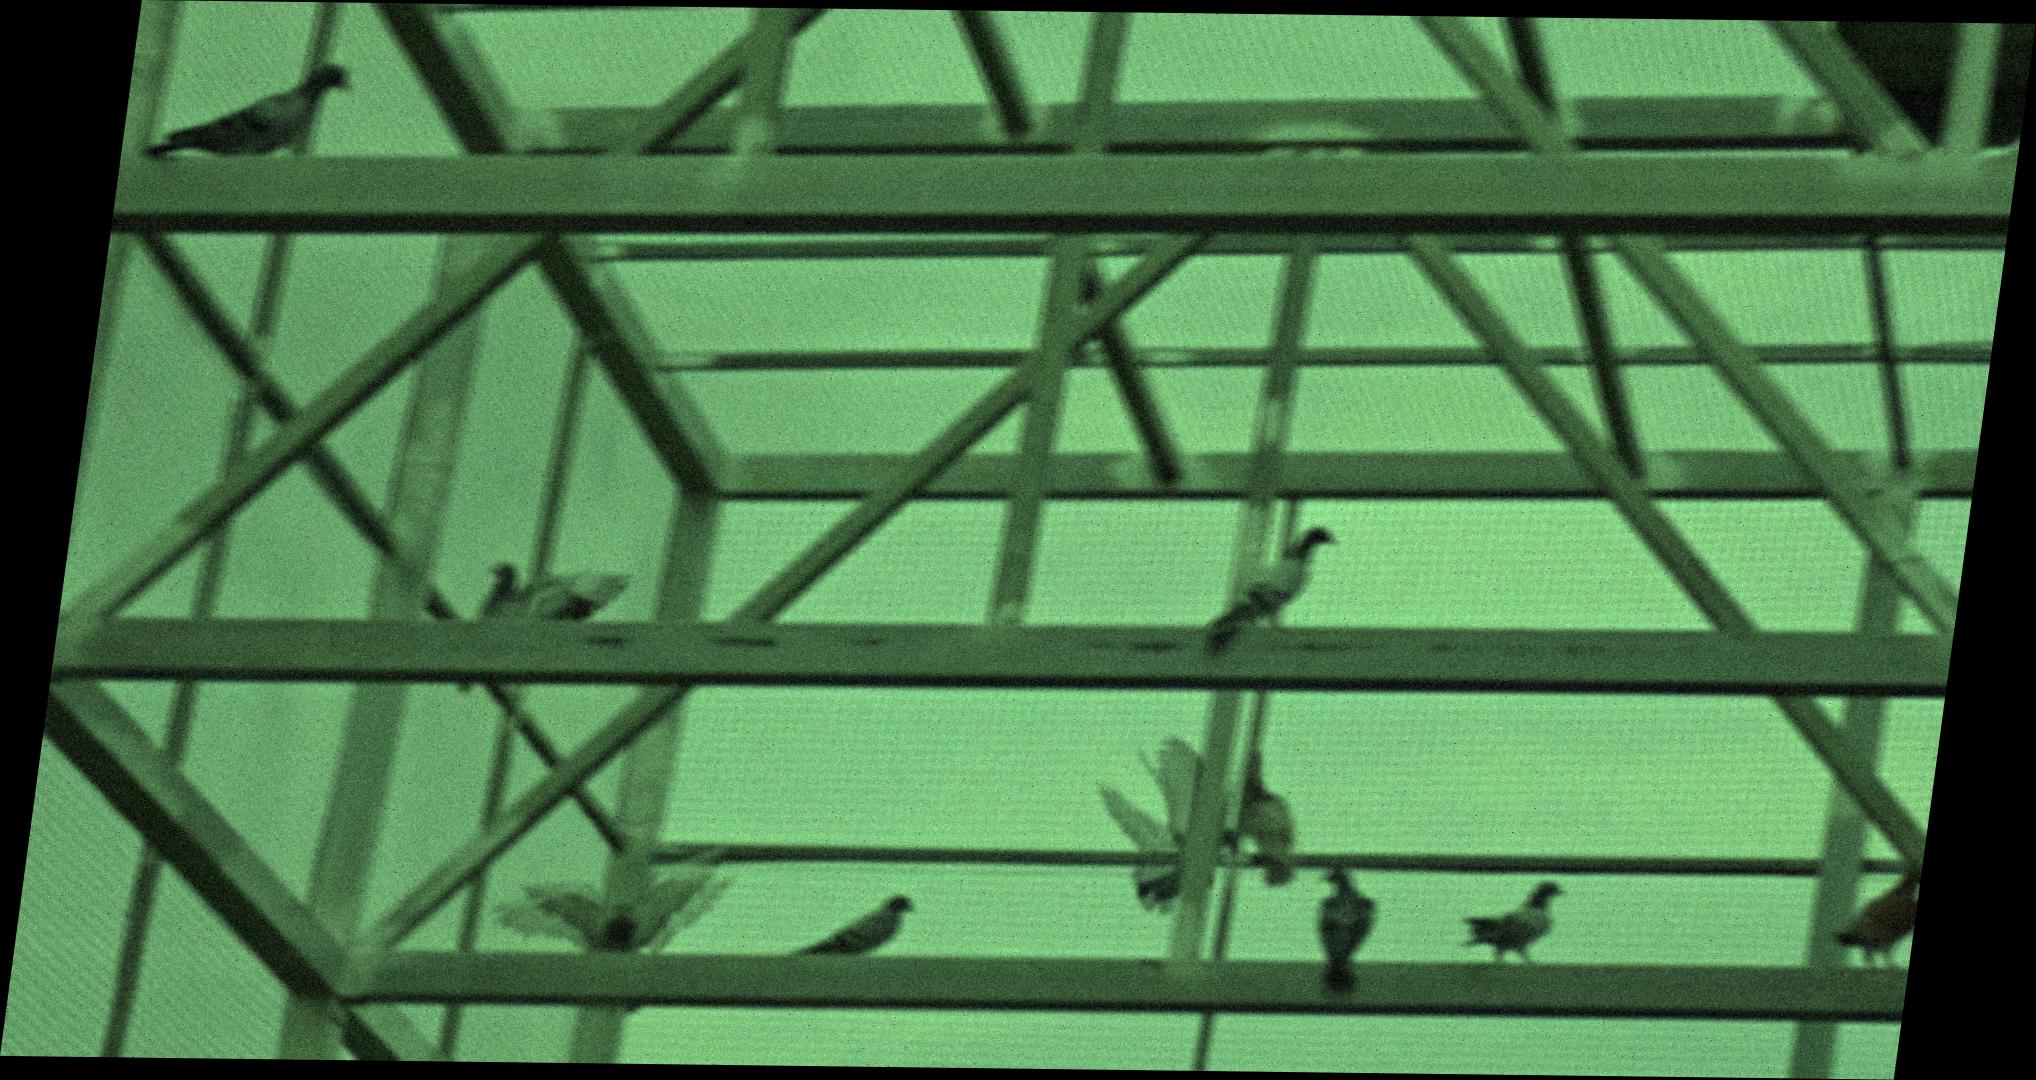bird: (1083, 733, 1254, 912), (487, 842, 741, 955), (450, 549, 637, 700), (140, 59, 355, 158), (1202, 518, 1340, 642), (1223, 737, 1318, 885), (1298, 865, 1382, 992), (1456, 879, 1573, 970), (1827, 859, 1923, 966), (780, 886, 920, 957)
